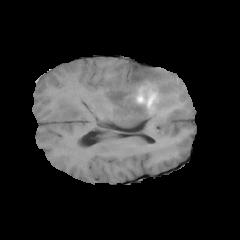glioma: (56, 67, 180, 126)
